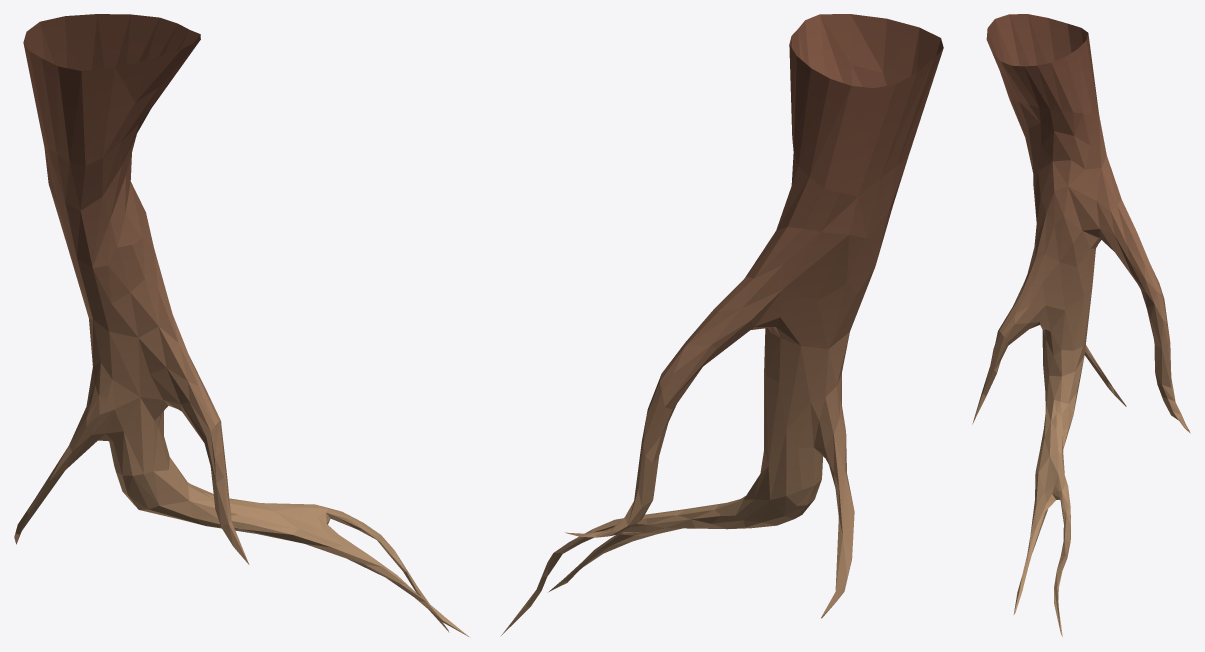
Rendered from Cavern_Root-02.fbx.
The picture shows the model from 3 angles, left to right: view 1: azimuth 30°, elevation 25°; view 2: azimuth 150°, elevation 25°; view 3: azimuth 270°, elevation 25°; orthographic projection. The views are drawn at different scales.
Visible parts, largest first — view 1: Cavern_Root-02; view 2: Cavern_Root-02; view 3: Cavern_Root-02.
Part boxes in pixels (x1,y1,x2,y2): Cavern_Root-02: (14, 14, 468, 636); Cavern_Root-02: (500, 14, 943, 636); Cavern_Root-02: (972, 14, 1190, 636).
Bounding box in the file's own units: 421 × 650 × 269.
1 material, 1 textured.
